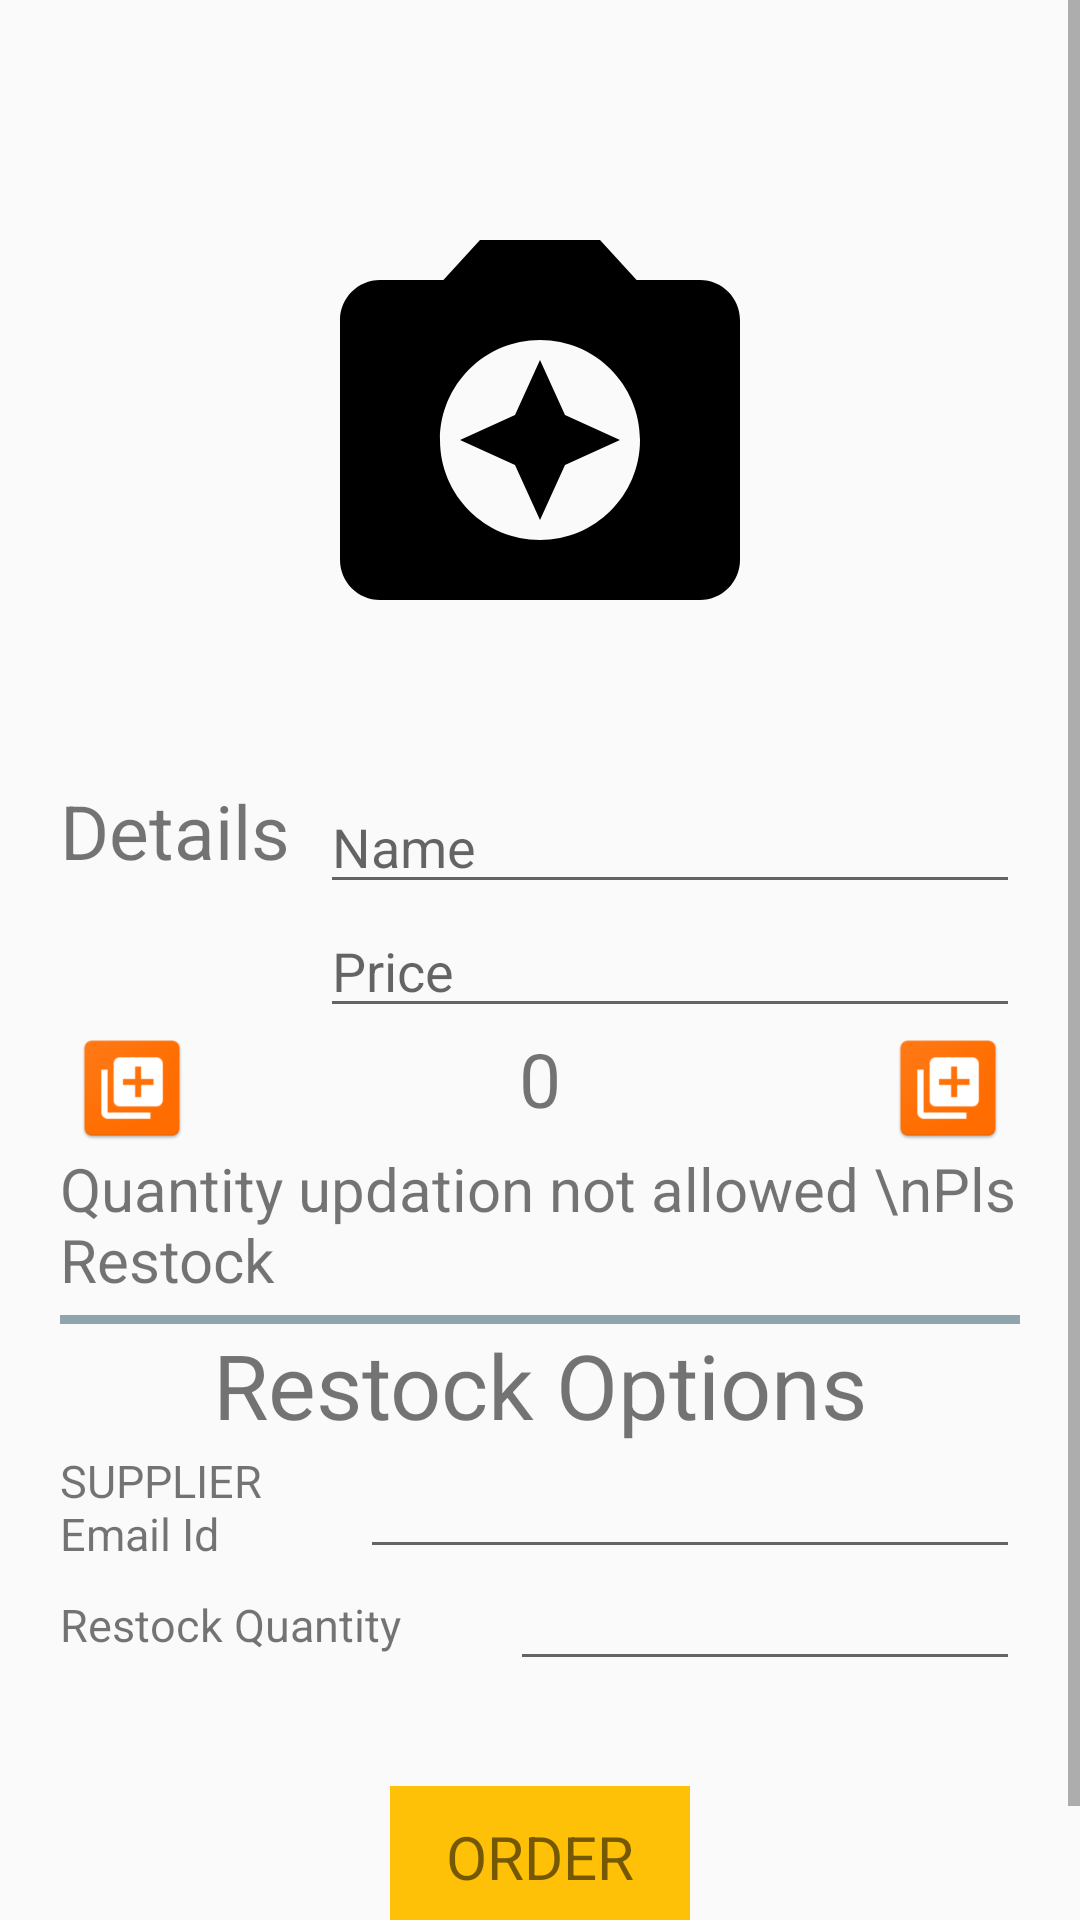

Icons on this 1080px×1920px Android screen, each with the point to tap as (x,y):
add: (132,1089), (948,1089)
